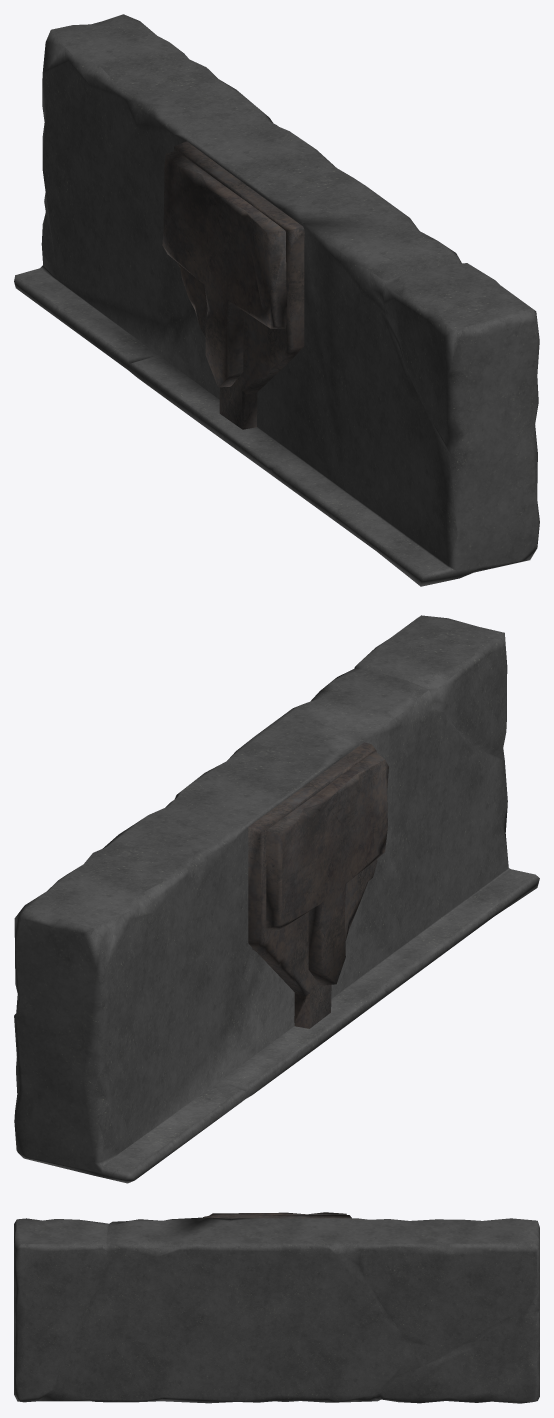
File: SM_WallModule.fbx
3 renders of one model, top to bottom at view 1: azimuth 30°, elevation 25°; view 2: azimuth 150°, elevation 25°; view 3: azimuth 270°, elevation 25°, orthographic. The views are drawn at different scales.
Visible parts, largest first — view 1: SM_WallModule_LOD0; view 2: SM_WallModule_LOD0; view 3: SM_WallModule_LOD0.
Part boxes in pixels (x1,y1,x2,y2): SM_WallModule_LOD0: (14,14,539,586); SM_WallModule_LOD0: (14,615,539,1183); SM_WallModule_LOD0: (14,1212,539,1403).
Bounding box in the file's own units: 50.15 × 300 × 100.
Materials: 2 (2 with a texture image).
